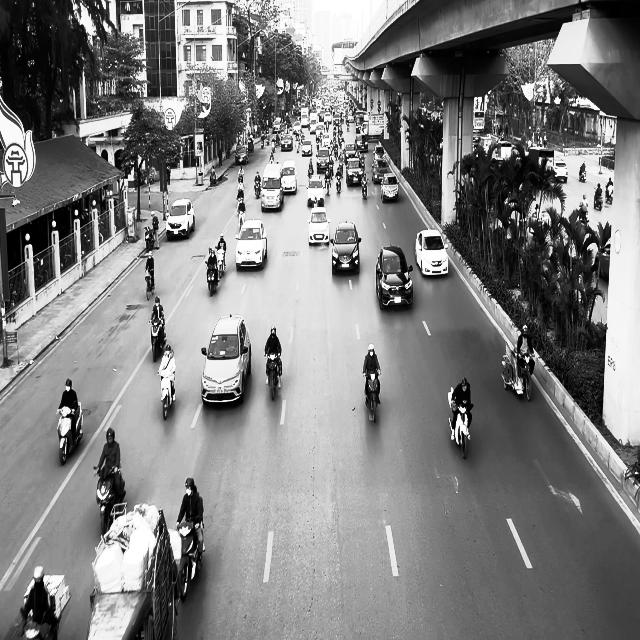car: (201, 314, 251, 405), (375, 244, 413, 310), (331, 221, 362, 275), (235, 219, 267, 270), (415, 228, 449, 276), (166, 198, 195, 241), (307, 207, 331, 246), (279, 160, 298, 194), (380, 172, 400, 201), (306, 175, 324, 207), (553, 159, 568, 182), (235, 145, 249, 164)
motorbike: (176, 520, 205, 602), (93, 463, 125, 537), (56, 402, 84, 466), (448, 388, 473, 458), (363, 370, 381, 422), (158, 369, 176, 420), (265, 350, 282, 400), (149, 317, 166, 362), (205, 260, 219, 296), (145, 268, 155, 300), (216, 248, 226, 278), (144, 226, 155, 250), (594, 192, 603, 210), (605, 187, 613, 204), (254, 179, 261, 198), (579, 169, 586, 182)
